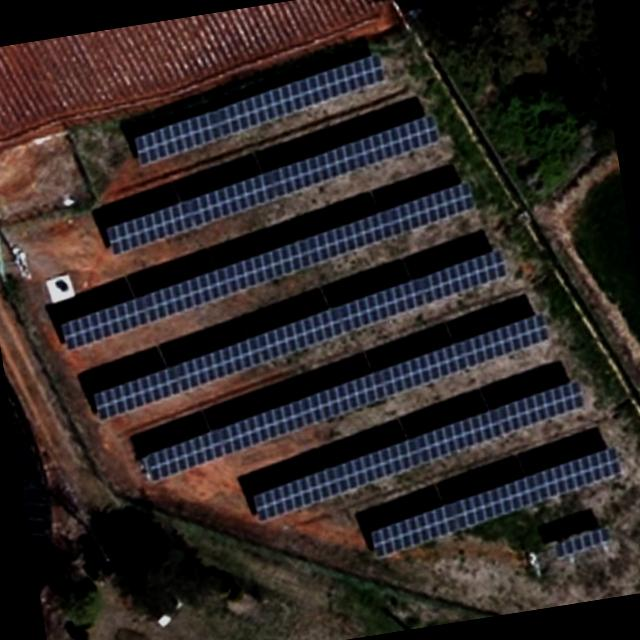solar: (46, 178, 488, 358), (81, 249, 522, 422), (126, 310, 564, 482), (94, 109, 454, 261), (247, 378, 596, 516), (125, 51, 395, 169), (359, 444, 630, 555), (552, 524, 613, 555)
